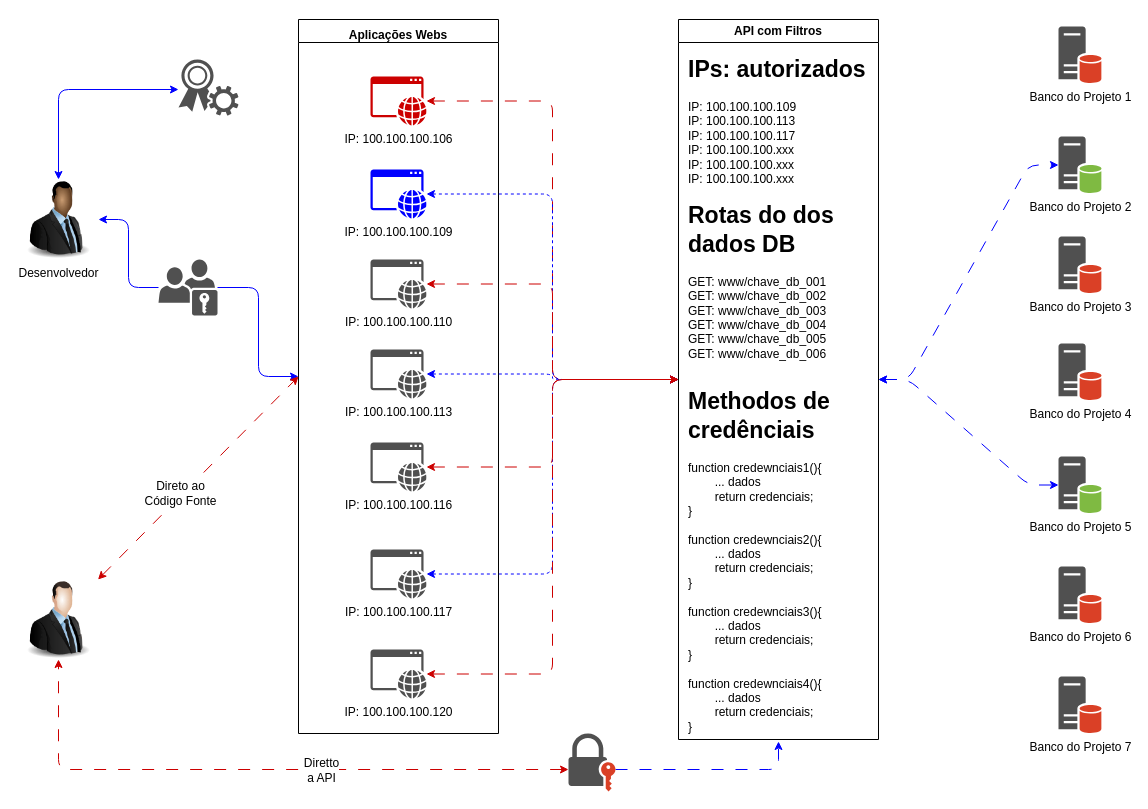
Some shapes in this 1148 by 809 pixel diagram are drawn without their labels. The centre of each missing label's shape, as x and y in pixels:
"Administradores de Tokens" goes at (x=187, y=287).
"Chave de 287 caracteres" goes at (x=208, y=87).
"Não Autorizado" goes at (x=58, y=619).
